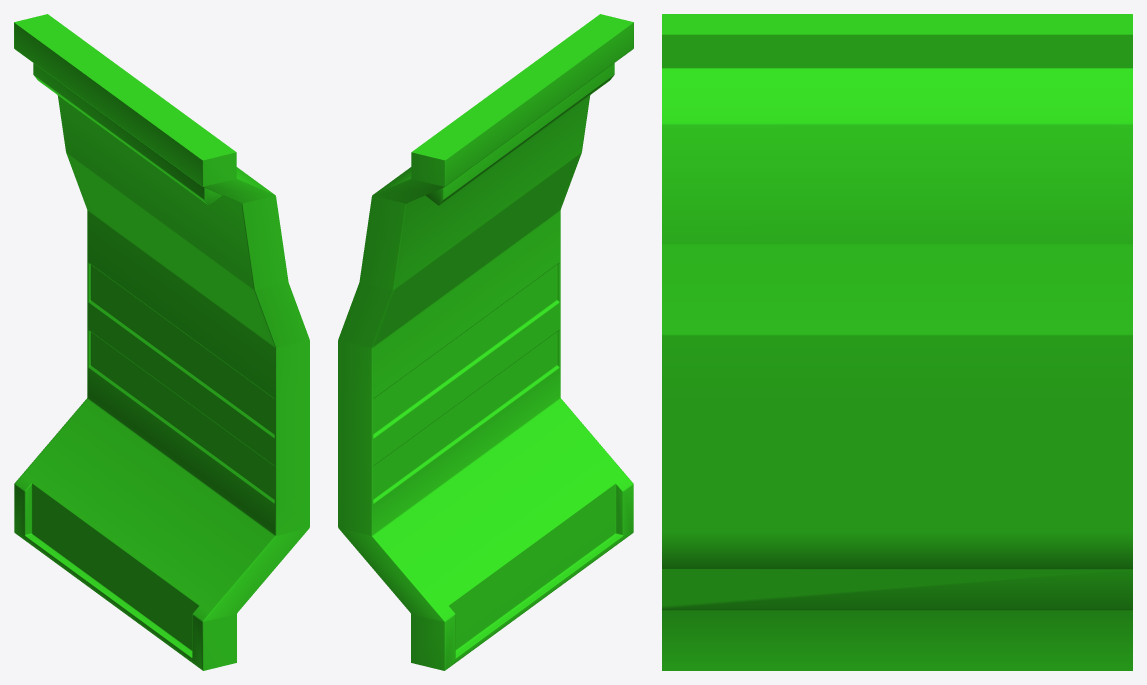
The model's file is Wall04.fbx.
3 renders of one model, left to right at view 1: azimuth 30°, elevation 25°; view 2: azimuth 150°, elevation 25°; view 3: azimuth 270°, elevation 25°, orthographic. The views are drawn at different scales.
Parts seen in each view (by area): view 1: SM_Wall04; view 2: SM_Wall04; view 3: SM_Wall04.
Part boxes in pixels (x1=…): SM_Wall04: x1=14, y1=14, x2=309, y2=670; SM_Wall04: x1=338, y1=14, x2=633, y2=670; SM_Wall04: x1=662, y1=14, x2=1132, y2=670.
Bounding box in the file's own units: 65.86 × 300 × 201.
